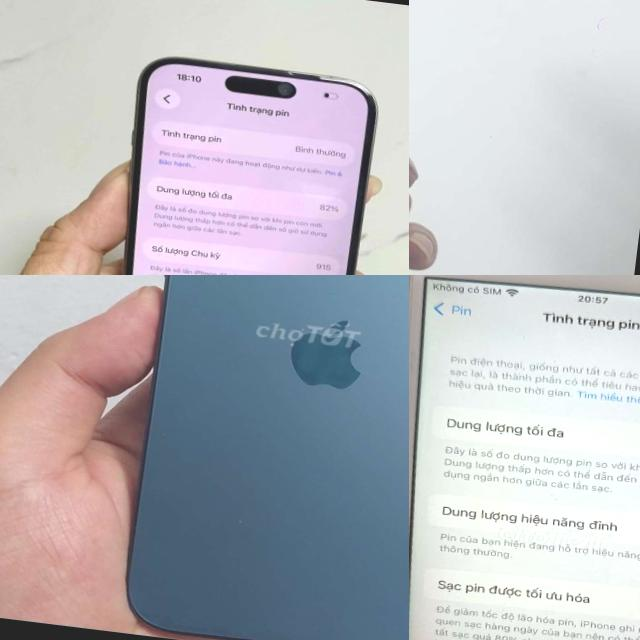gen_12_13: (115, 275, 409, 640)
gen_15: (81, 39, 403, 275)
gen_6: (409, 275, 640, 640)
